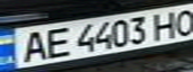0: (109, 17, 133, 48)
3: (127, 12, 154, 45)
4: (72, 20, 96, 53), (93, 18, 115, 52)
A: (15, 28, 51, 64)
E: (39, 25, 75, 60)
H: (148, 8, 184, 41)
O: (169, 6, 193, 37)
